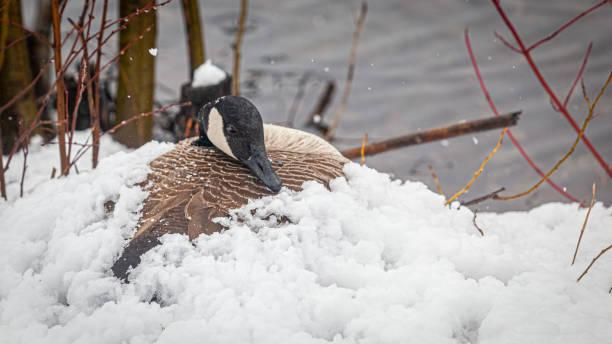Canadian-Goose: (125, 97, 351, 275)
